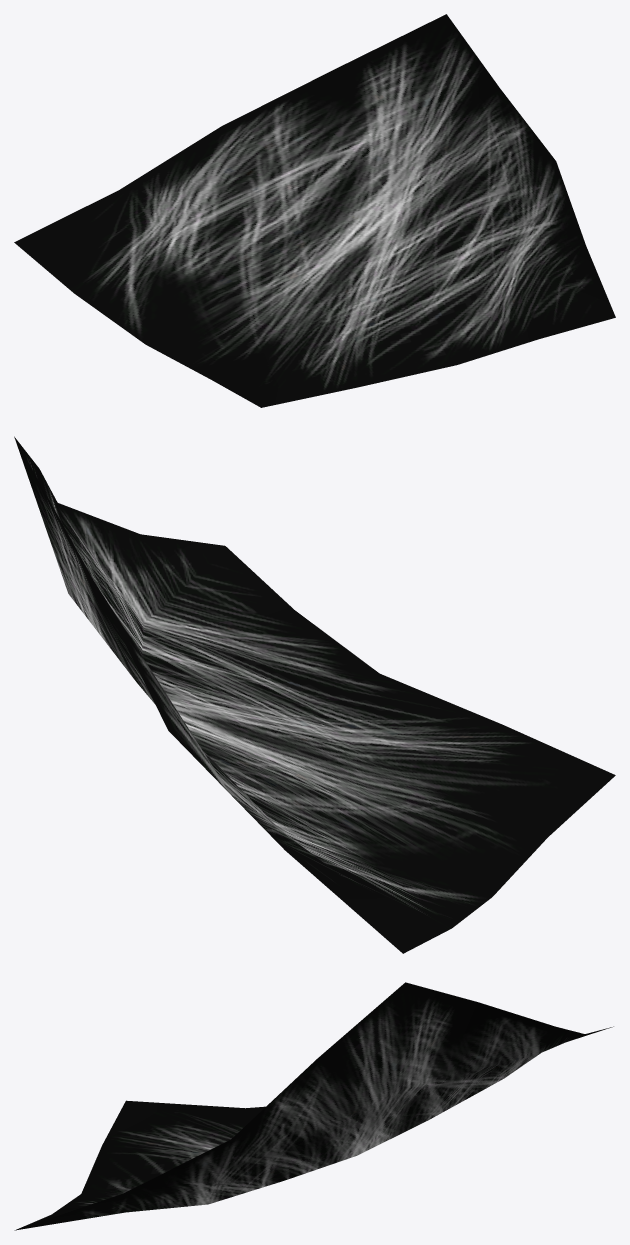
Rendered from SWORDLIGHT20_PS-AREA01_CORNERWEB07.fbx.
3 views of the same model, one above another, from view 1: azimuth 30°, elevation 25°; view 2: azimuth 150°, elevation 25°; view 3: azimuth 270°, elevation 25° (orthographic). The views are drawn at different scales.
Parts seen in each view (by area): view 1: SWORDLIGHT20_PS-AREA01_CORNERWEB07; view 2: SWORDLIGHT20_PS-AREA01_CORNERWEB07; view 3: SWORDLIGHT20_PS-AREA01_CORNERWEB07.
Part boxes in pixels (x1=…): SWORDLIGHT20_PS-AREA01_CORNERWEB07: x1=14, y1=14, x2=615, y2=407; SWORDLIGHT20_PS-AREA01_CORNERWEB07: x1=14, y1=436, x2=615, y2=953; SWORDLIGHT20_PS-AREA01_CORNERWEB07: x1=14, y1=982, x2=613, y2=1230.
Bounding box in the file's own units: 70631 × 42815 × 75799.
Materials: 1 (1 with a texture image).
